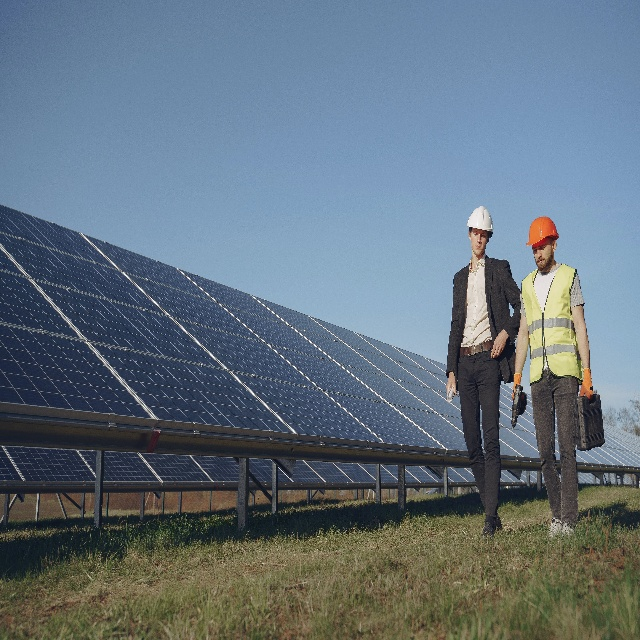Guantes: (578, 368, 594, 402), (511, 372, 523, 401)
Sin_guantes: (490, 333, 507, 359), (445, 371, 457, 397)
